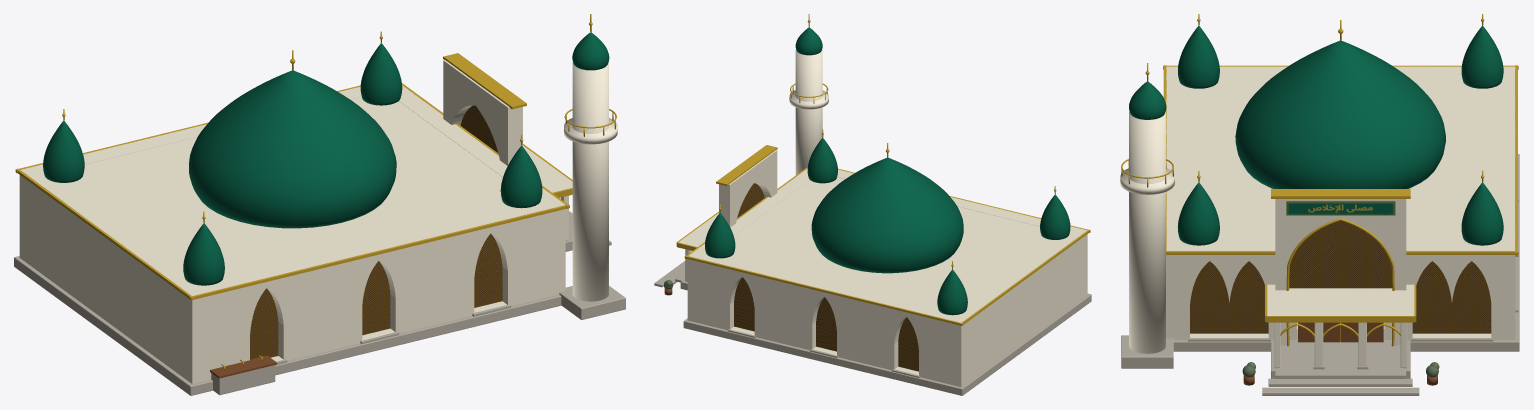
The model's file is surau-v2-pintu-tertutup.glb.
3 views of the same model, side by side, from view 1: azimuth 30°, elevation 25°; view 2: azimuth 150°, elevation 25°; view 3: azimuth 270°, elevation 25° (orthographic). The views are drawn at different scales.
Parts seen in each view (by area): view 1: SR_DindingSelatan, SR_Atap, SR_KubahUtama, SR_DindingBarat, SR_MenaraBadan, SR_AlasBatu, SR_BlokPortal, SR_DindingUtara, SR_DindingTimur, SR_KubahKecil.003, SR_KubahKecil, SR_KubahKecil.001 (+14 smaller); view 2: SR_DindingUtara, SR_Atap, SR_KubahUtama, SR_DindingBarat, SR_AlasBatu, SR_MenaraBadan, SR_BlokPortal, SR_DindingSelatan, SR_DindingTimur, SR_KubahKecil.001, SR_KubahKecil.002, SR_KubahKecil.003 (+11 smaller); view 3: SR_KubahUtama, SR_Atap, SR_MenaraBadan, SR_DindingTimur, SR_KisiPortal, SR_DindingUtara, SR_DindingSelatan, SR_BlokPortal, SR_SerambiAtap, SR_SerambiLantai, SR_AlasBatu, SR_KisiJendela.003 (+25 smaller).
Boxes of the visible parts, <box> form: SR_DindingSelatan: <box>181,197,565,383</box>; SR_Atap: <box>63,97,512,277</box>; SR_KubahUtama: <box>189,70,396,228</box>; SR_DindingBarat: <box>30,174,194,375</box>; SR_MenaraBadan: <box>572,62,608,301</box>; SR_AlasBatu: <box>14,256,561,395</box>; SR_BlokPortal: <box>443,60,522,165</box>; SR_DindingUtara: <box>19,85,403,264</box>; SR_DindingTimur: <box>399,86,554,200</box>; SR_KubahKecil.003: <box>360,43,402,105</box>; SR_KubahKecil: <box>183,223,224,285</box>; SR_KubahKecil.001: <box>500,145,542,208</box>; SR_DindingUtara: <box>687,250,969,386</box>; SR_Atap: <box>726,177,1055,309</box>; SR_KubahUtama: <box>811,157,963,273</box>; SR_DindingBarat: <box>959,234,1079,380</box>; SR_AlasBatu: <box>683,293,1091,395</box>; SR_MenaraBadan: <box>795,49,822,174</box>; SR_BlokPortal: <box>719,150,777,227</box>; SR_DindingSelatan: <box>806,168,1087,300</box>; SR_DindingTimur: <box>696,169,809,252</box>; SR_KubahKecil.001: <box>807,137,837,183</box>; SR_KubahKecil.002: <box>937,269,967,315</box>; SR_KubahKecil.003: <box>705,213,735,258</box>; SR_KubahUtama: <box>1235,40,1445,188</box>; SR_Atap: <box>1188,76,1493,241</box>; SR_MenaraBadan: <box>1129,111,1165,353</box>; SR_DindingTimur: <box>1188,242,1493,339</box>; SR_KisiPortal: <box>1289,220,1392,288</box>; SR_DindingUtara: <box>1493,66,1515,339</box>; SR_DindingSelatan: <box>1166,66,1187,339</box>; SR_BlokPortal: <box>1275,199,1406,345</box>; SR_SerambiAtap: <box>1267,284,1414,315</box>; SR_SerambiLantai: <box>1271,339,1410,378</box>; SR_AlasBatu: <box>1173,154,1519,351</box>; SR_KisiJendela.003: <box>1452,261,1491,333</box>.
Bounding box in the file's own units: 25.2 × 15.55 × 18.3.
20 materials, 2 textured.
